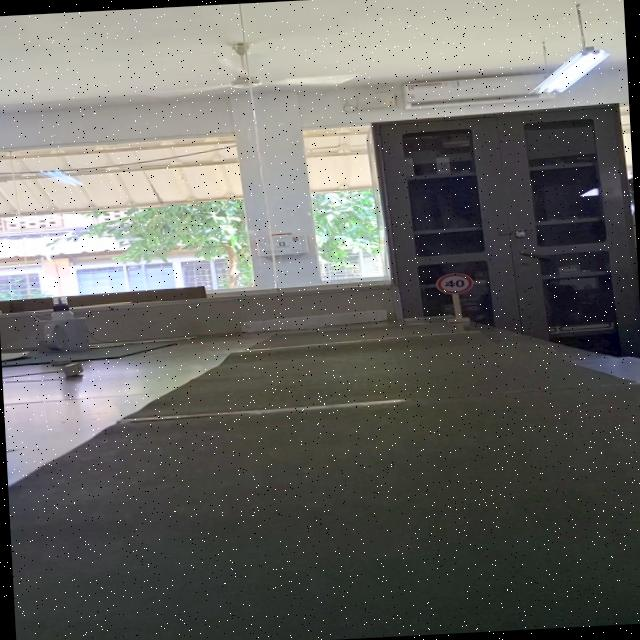Speed40: (434, 271, 476, 296)
